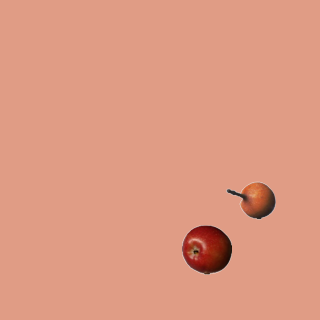Apple Braeburn: (181, 224, 231, 274)
Granadilla: (225, 175, 275, 225)
